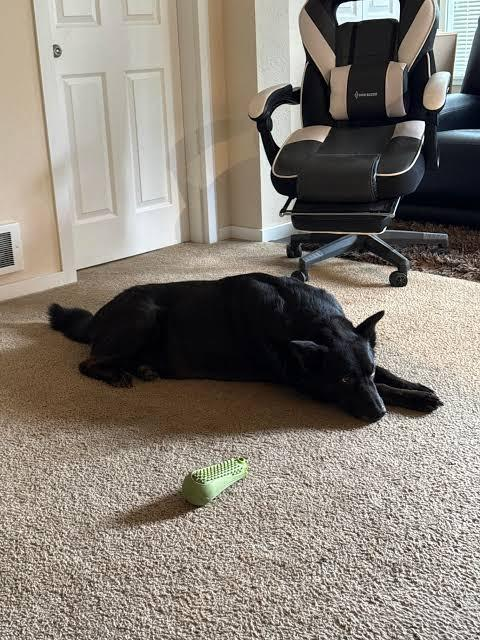adult_dog: (47, 272, 444, 424)
